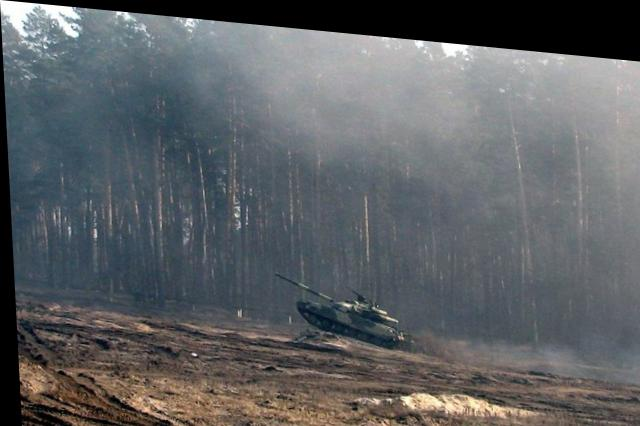tank: (293, 281, 404, 337)
